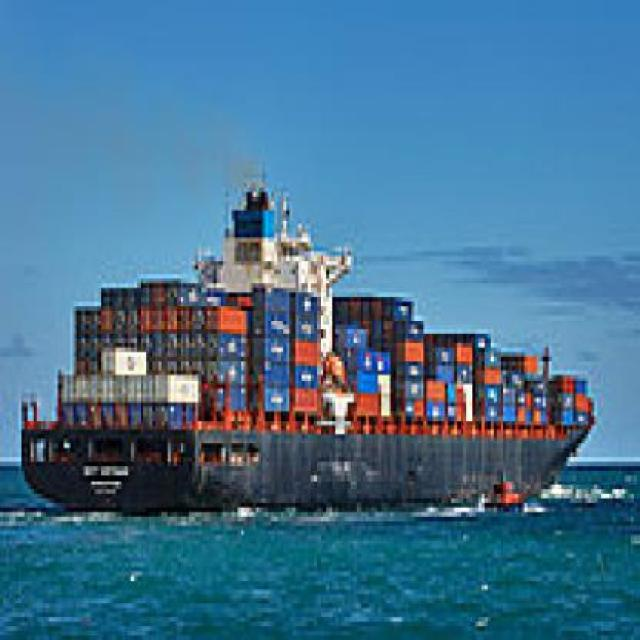container: (16, 158, 608, 527)
